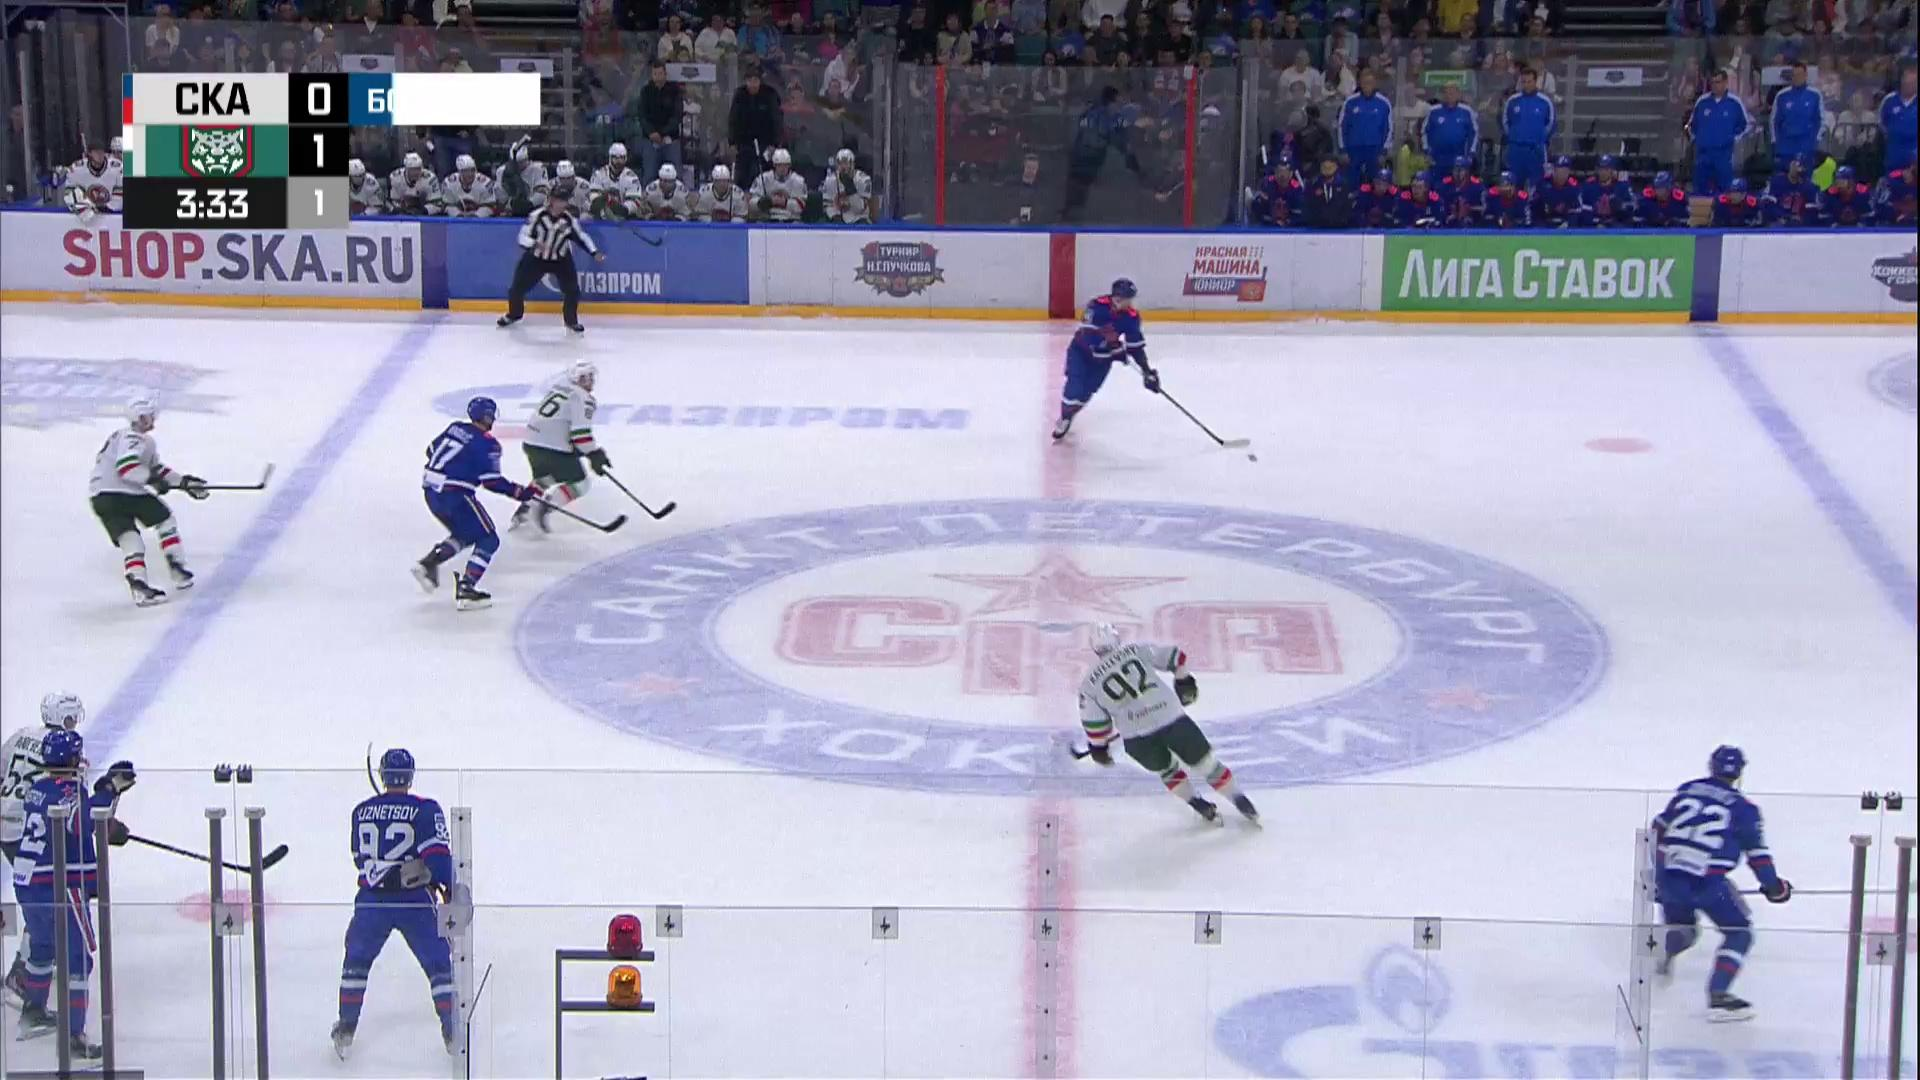ball: (1249, 454, 1258, 463)
